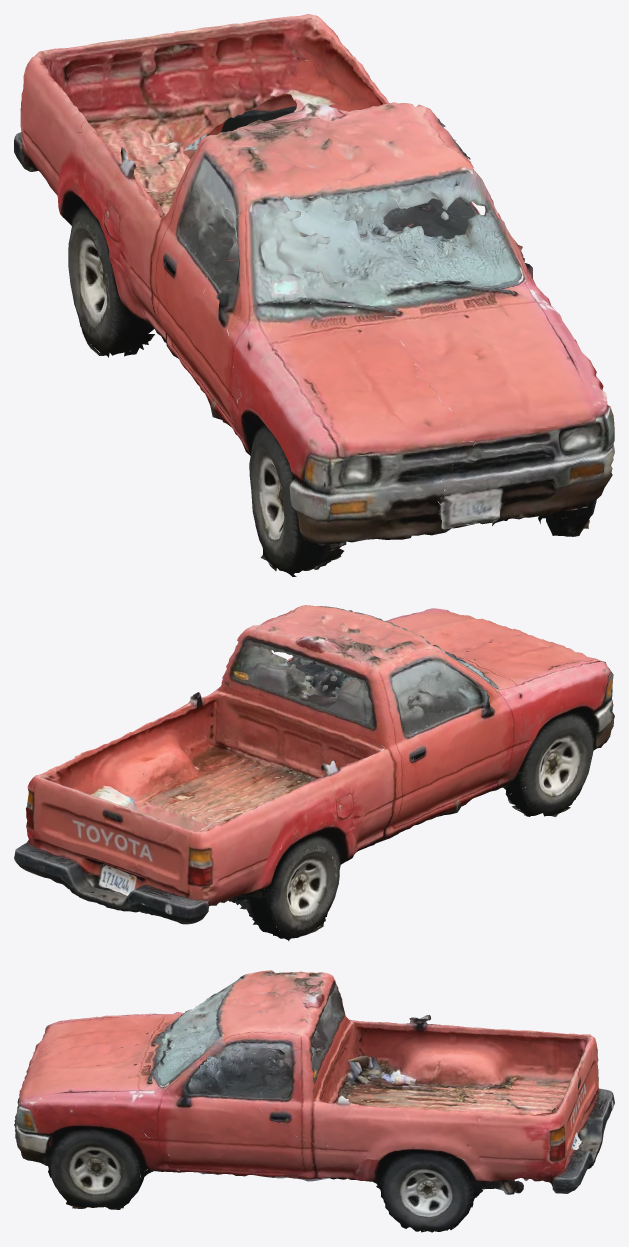
File: toyota-pickup-truck-cad837.glb
3 views of the same model, one above another, from view 1: azimuth 30°, elevation 25°; view 2: azimuth 150°, elevation 25°; view 3: azimuth 270°, elevation 25° (orthographic). The views are drawn at different scales.
Visible parts, largest first — view 1: body; view 2: body; view 3: body.
Boxes of the visible parts, x1,y1,x2,y2 form: body: (14, 14, 614, 576); body: (14, 605, 614, 941); body: (14, 970, 614, 1232).
Size of the model in its own units: 2.8 by 1.93 by 5.5.
1 material, 1 textured.
